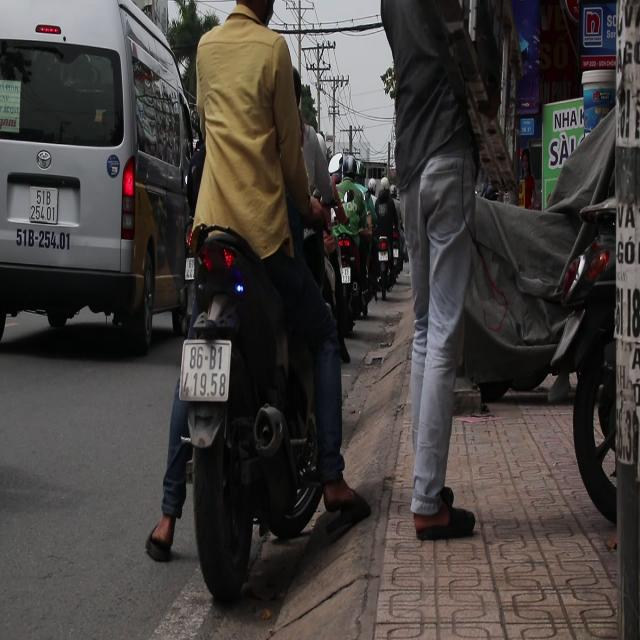car: (2, 0, 203, 365)
motorbike: (144, 186, 364, 600), (336, 203, 376, 336), (372, 188, 406, 300)
